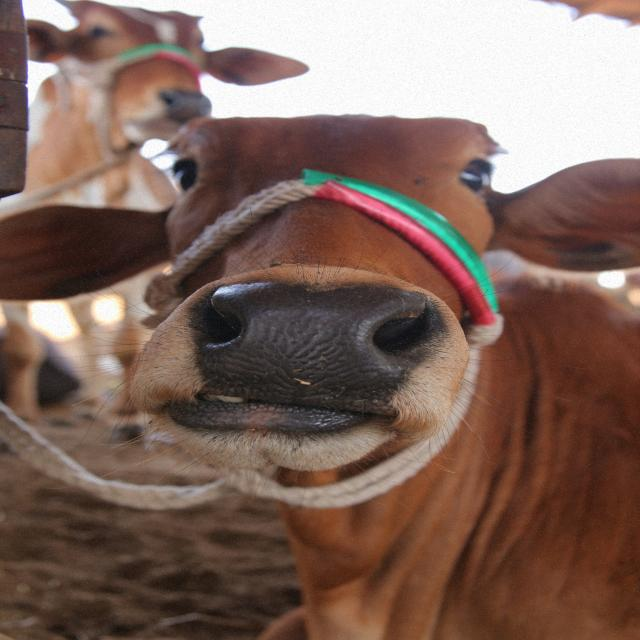muzzles: (175, 273, 461, 426)
